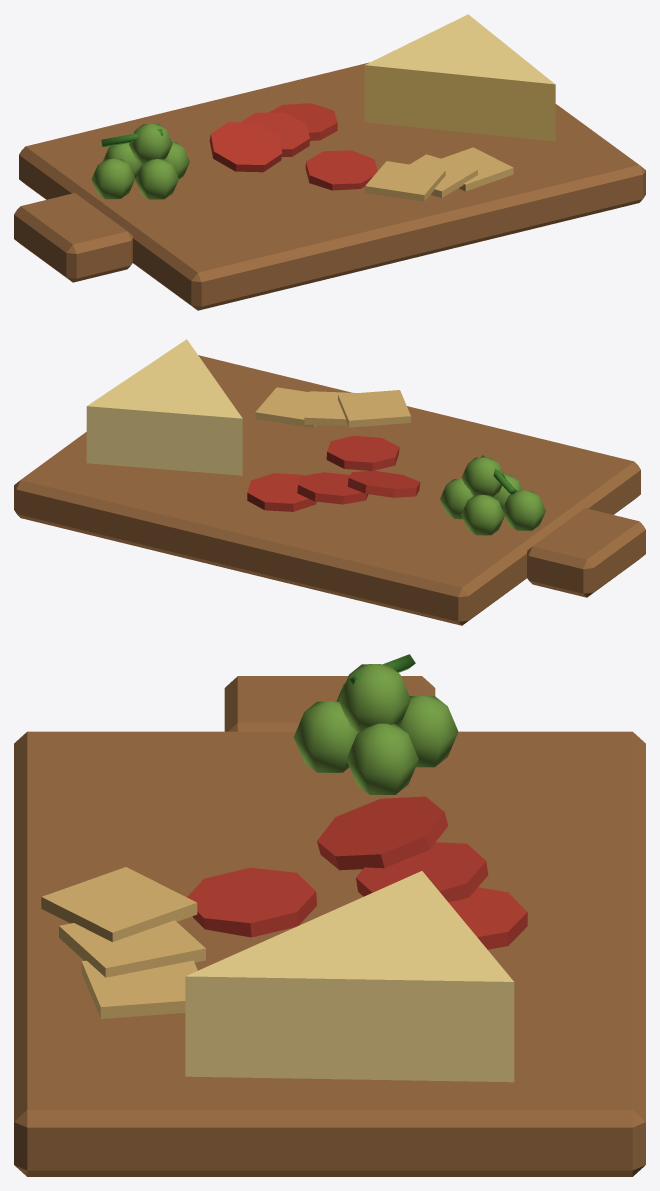
The model's file is tastingBoard.glb.
3 views of the same model, one above another, from view 1: azimuth 30°, elevation 25°; view 2: azimuth 150°, elevation 25°; view 3: azimuth 270°, elevation 25° (orthographic). The views are drawn at different scales.
Visible parts, largest first — view 1: tastingBoard; view 2: tastingBoard; view 3: tastingBoard.
Part boxes in pixels (x1,y1,x2,y2): tastingBoard: [14, 14, 645, 310]; tastingBoard: [14, 339, 645, 625]; tastingBoard: [14, 654, 645, 1176].
Size of the model in its own units: 0.4 by 0.075 by 0.24.
